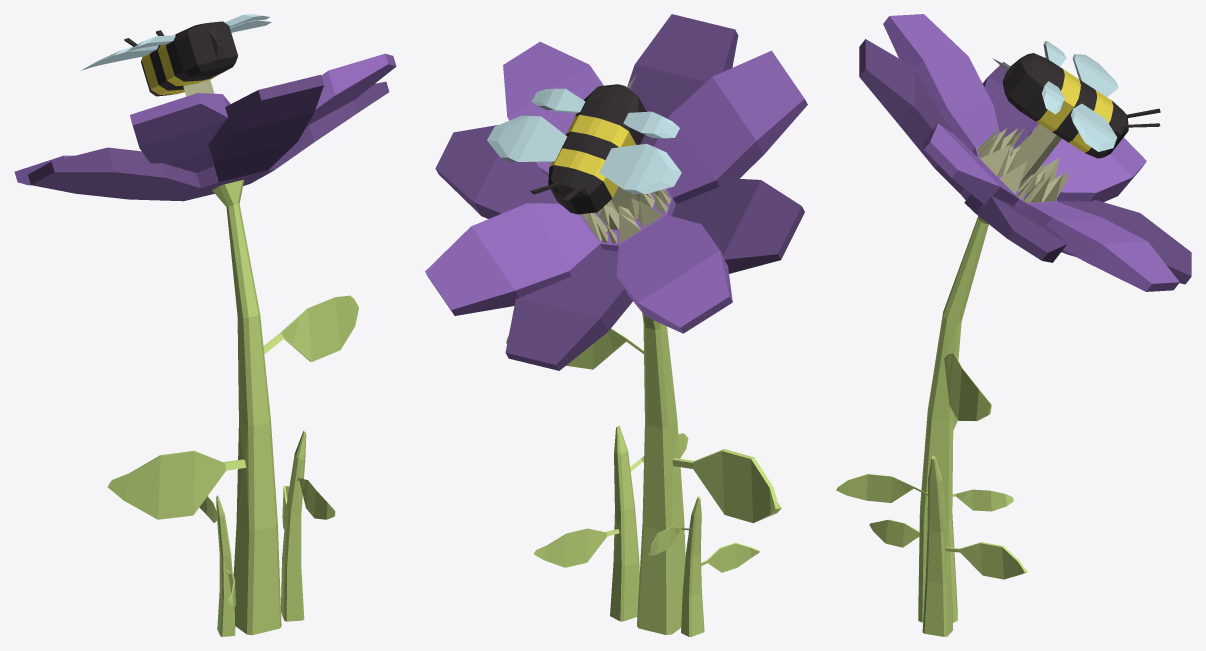
Rendered from Spring_Flower_5.fbx.
3 views of the same model, side by side, from view 1: azimuth 30°, elevation 25°; view 2: azimuth 150°, elevation 25°; view 3: azimuth 270°, elevation 25° (orthographic). The views are drawn at different scales.
Parts seen in each view (by area): view 1: Cube.094; view 2: Cube.094; view 3: Cube.094.
Part boxes in pixels (x1,y1,x2,y2): Cube.094: [14, 14, 396, 636]; Cube.094: [425, 14, 807, 636]; Cube.094: [836, 14, 1191, 636].
Bounding box in the file's own units: 82.3 × 132 × 76.1.
